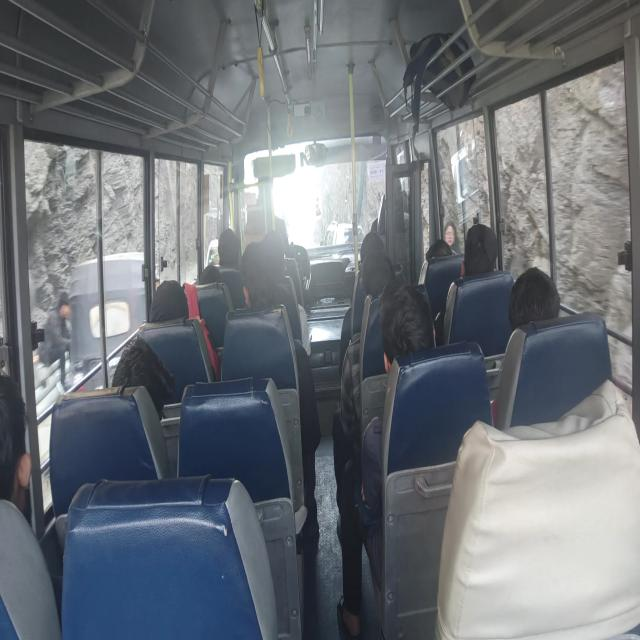person: (0, 395, 91, 564), (505, 269, 581, 339), (126, 333, 171, 414), (244, 251, 289, 327), (390, 296, 431, 355), (154, 281, 191, 331), (465, 212, 490, 264), (264, 237, 290, 279), (205, 258, 231, 297), (220, 228, 243, 271), (364, 264, 390, 302), (427, 236, 451, 265), (361, 234, 380, 262)
